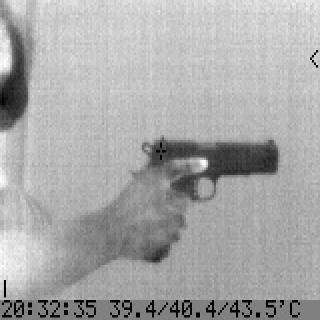Gun: (136, 135, 280, 265)
